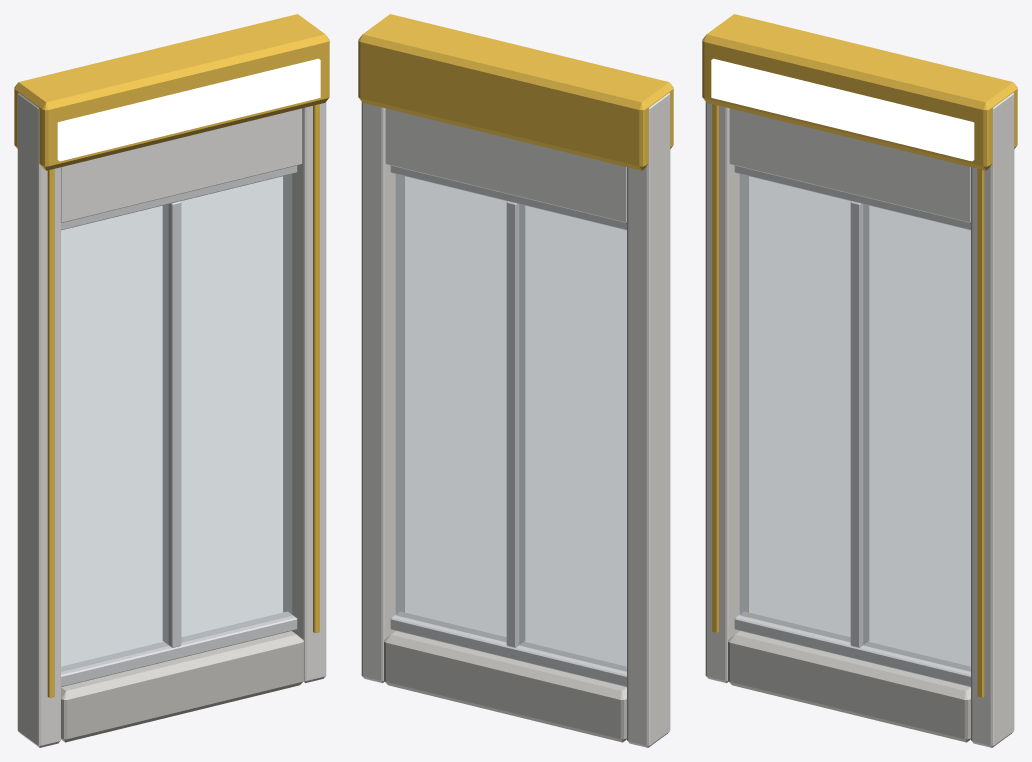
The model's file is petrol-station-and-forecourt-shop-shop-facade-bay-glaz-fd865d5a__33981.glb.
3 renders of one model, left to right at view 1: azimuth 30°, elevation 25°; view 2: azimuth 150°, elevation 25°; view 3: azimuth 330°, elevation 25°, orthographic.
Parts seen in each view (by area): view 1: shop-facade-bay-glazed-amber; view 2: shop-facade-bay-glazed-amber; view 3: shop-facade-bay-glazed-amber.
Boxes of the visible parts, x1,y1,x2,y2 form: shop-facade-bay-glazed-amber: [14, 14, 329, 747]; shop-facade-bay-glazed-amber: [358, 14, 673, 747]; shop-facade-bay-glazed-amber: [702, 14, 1017, 747].
Size of the model in its own units: 1.5 by 3.22 by 0.31.
